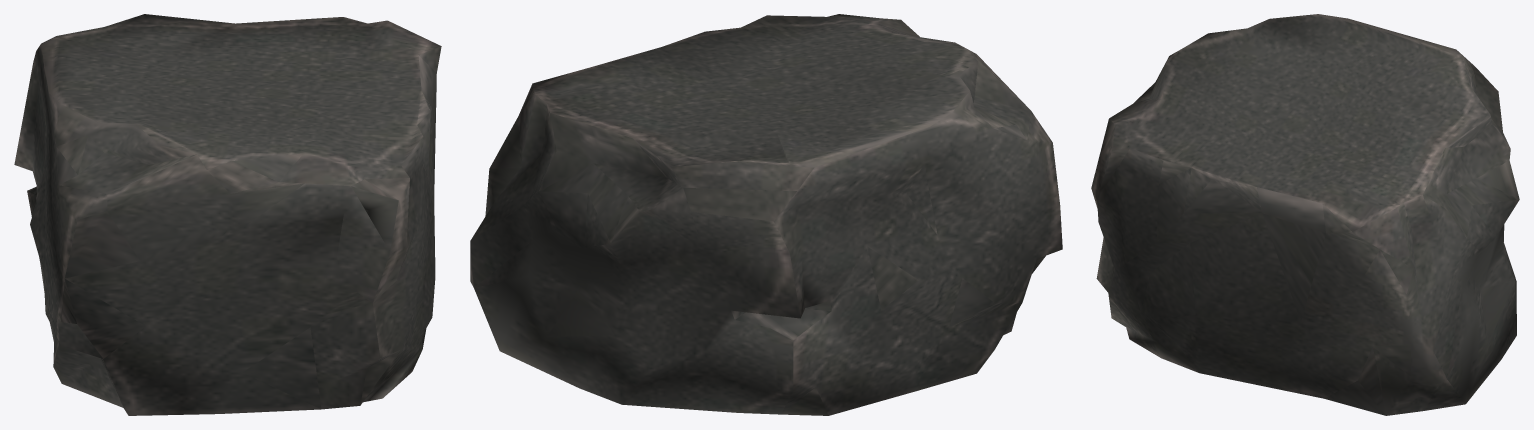
Rendered from boulder_large.gltf.
The picture shows the model from 3 angles, left to right: view 1: azimuth 30°, elevation 25°; view 2: azimuth 150°, elevation 25°; view 3: azimuth 270°, elevation 25°; orthographic projection. The views are drawn at different scales.
Visible parts, largest first — view 1: boulder_large; view 2: boulder_large; view 3: boulder_large.
Boxes of the visible parts, x1,y1,x2,y2 form: boulder_large: [14, 14, 441, 415]; boulder_large: [470, 14, 1062, 415]; boulder_large: [1091, 14, 1519, 415].
Bounding box in the file's own units: 1.6 × 0.87 × 1.44.
1 material, 1 textured.
